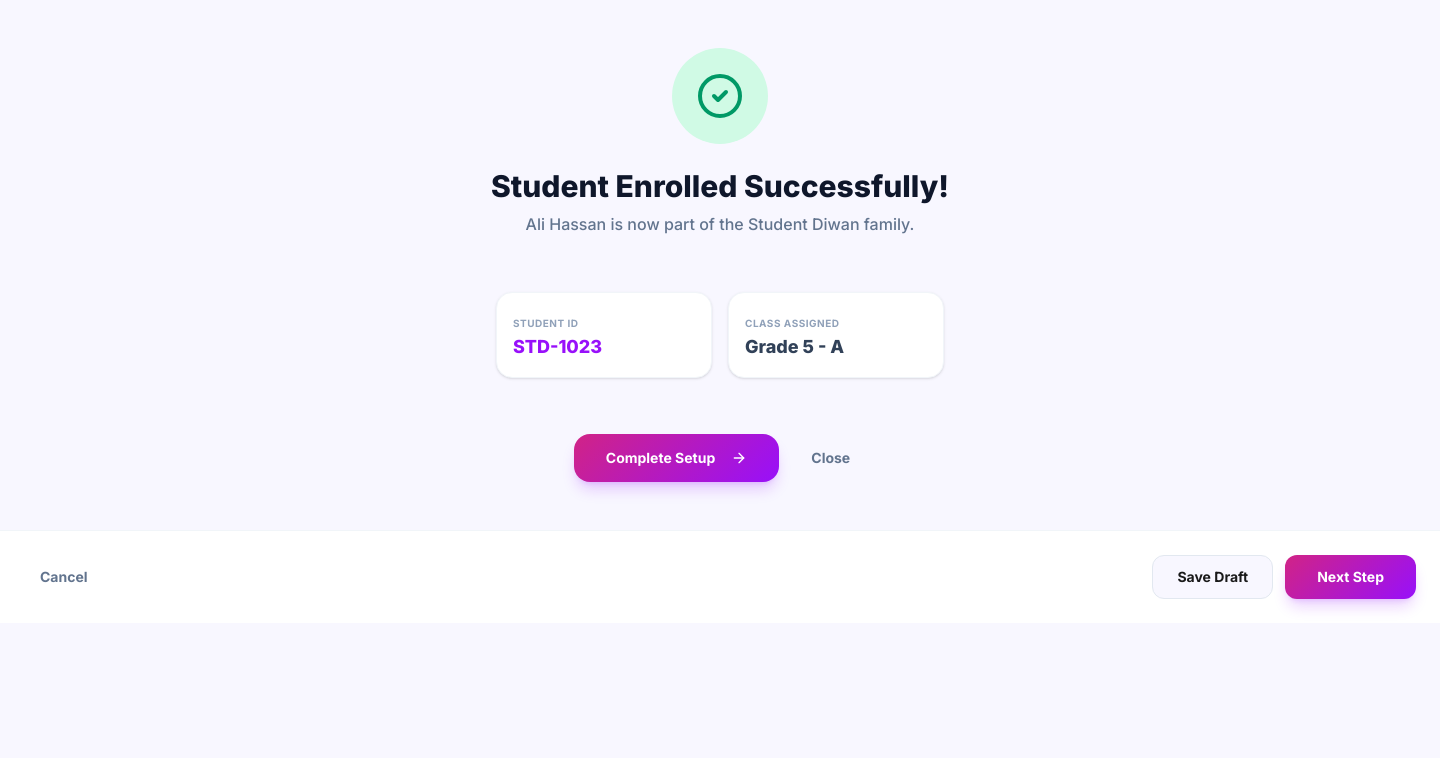
PostEnrollmentFlow › navigates to the checklist and shows all five onboarding steps as incomplete
Click the button "Complete Setup" at [677, 458], box [574,434,779,482]
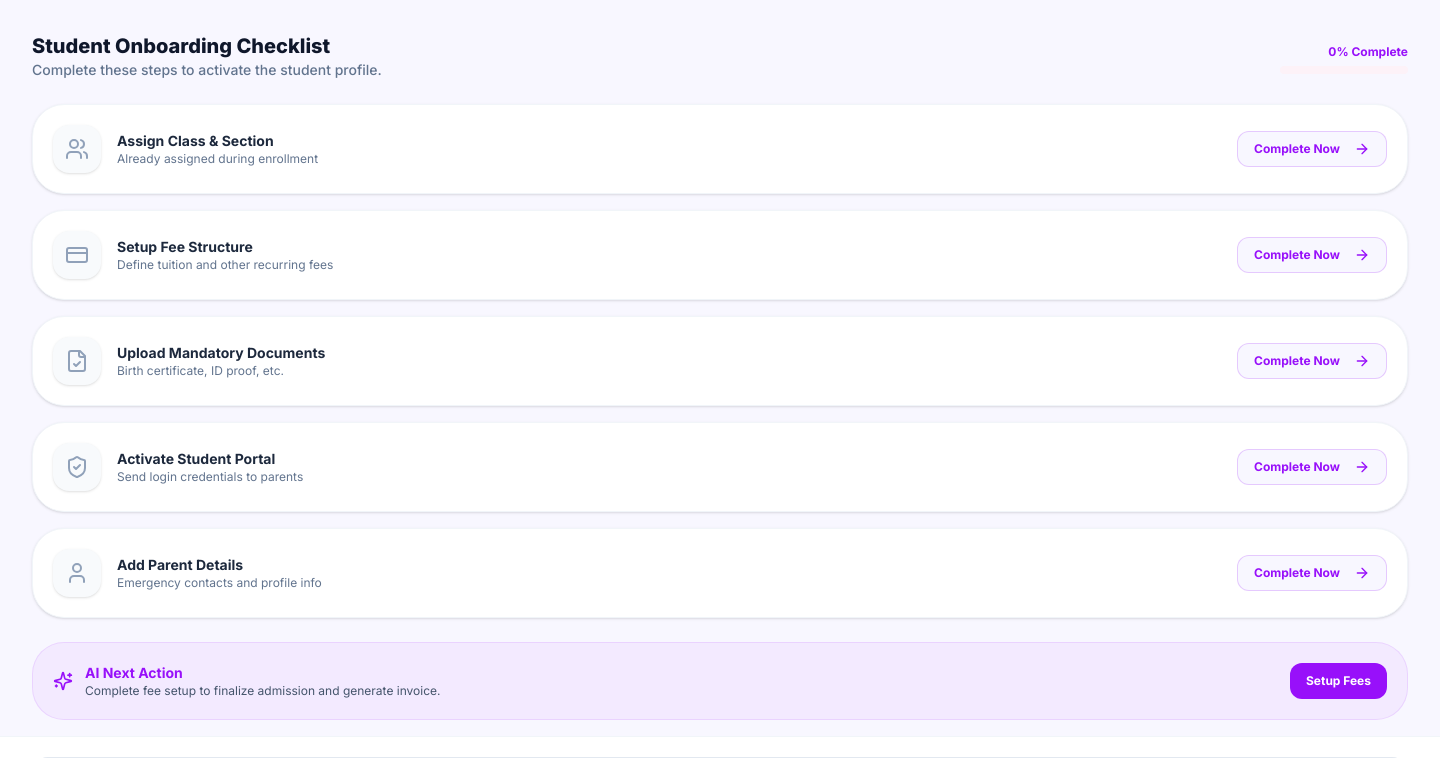
Now the heading "Student Onboarding Checklist" is shown, box [32,32,382,60]
Now the heading "Assign Class & Section" is shown, box [117,132,274,149]
Now the heading "Setup Fee Structure" is shown, box [117,238,253,255]
